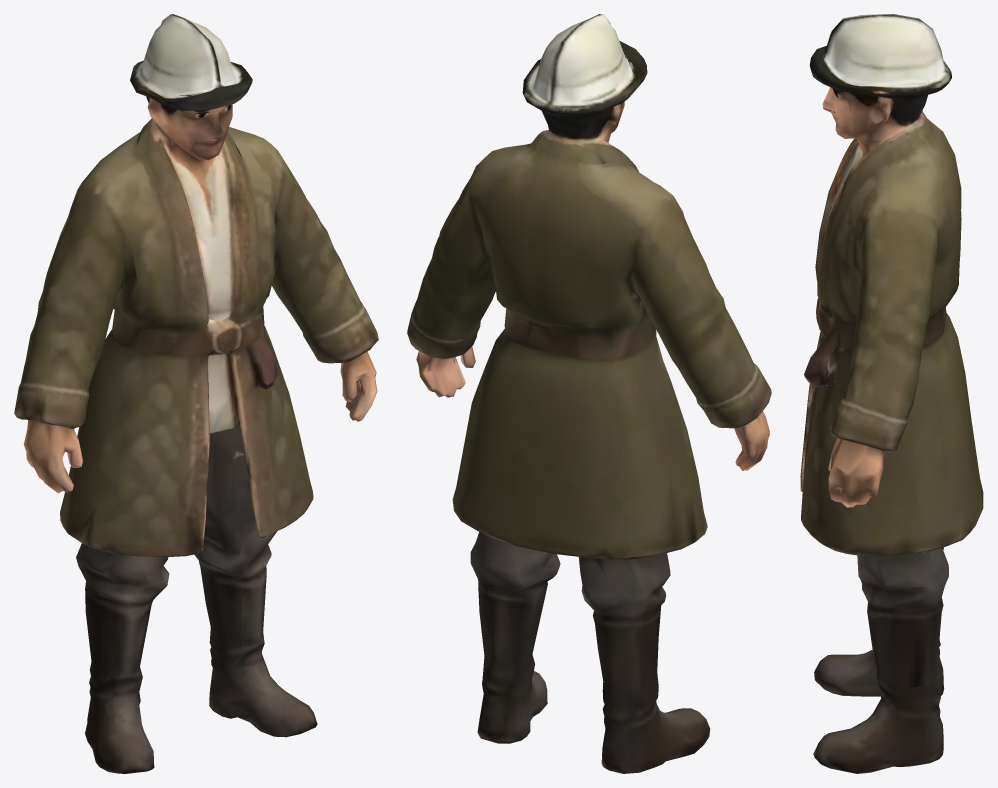
The model's file is herder-erlan.gen.glb.
3 renders of one model, left to right at view 1: azimuth 30°, elevation 25°; view 2: azimuth 150°, elevation 25°; view 3: azimuth 270°, elevation 25°, orthographic.
Parts seen in each view (by area): view 1: herder-erlan.raw; view 2: herder-erlan.raw; view 3: herder-erlan.raw.
Part boxes in pixels (left/top/right/bottom): herder-erlan.raw: left=14, top=14, right=378, bottom=773; herder-erlan.raw: left=407, top=14, right=771, bottom=773; herder-erlan.raw: left=800, top=14, right=983, bottom=773.
Bounding box in the file's own units: 0.9566 × 1.85 × 0.4318.
Materials: 1 (1 with a texture image).
